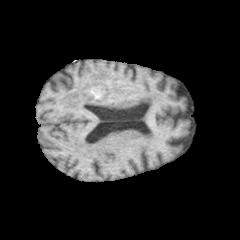glioma: (63, 66, 120, 109)
